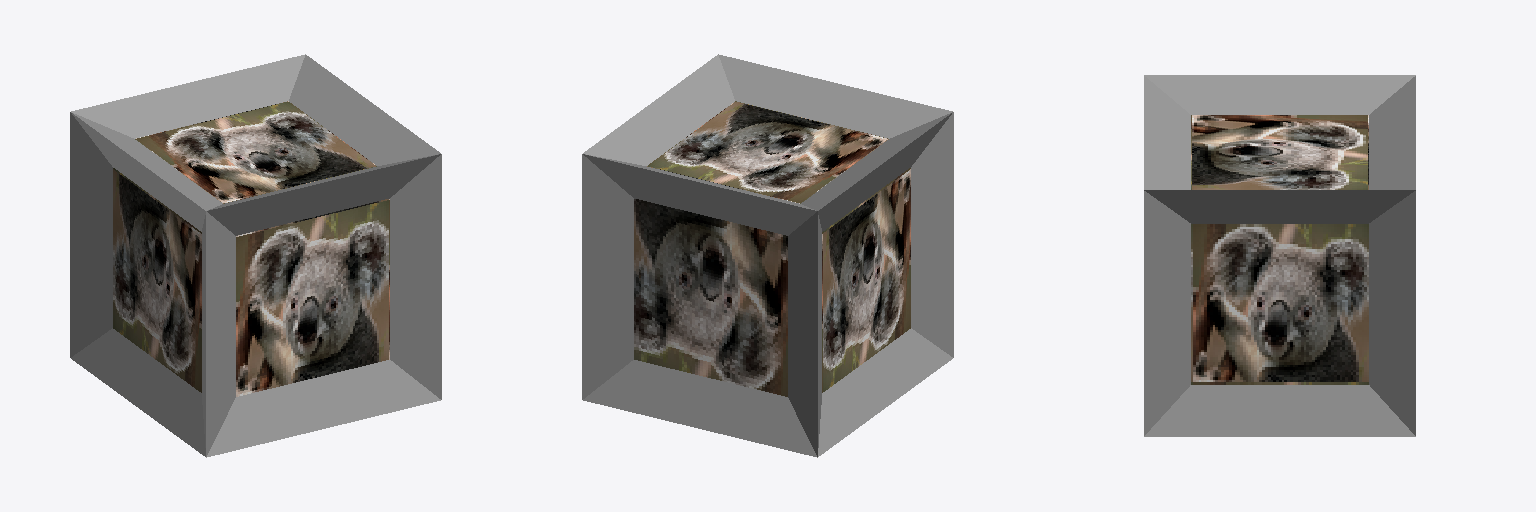
3 renders of one model, left to right at view 1: azimuth 30°, elevation 25°; view 2: azimuth 150°, elevation 25°; view 3: azimuth 270°, elevation 25°, orthographic.
Visible parts, largest first — view 1: Cube; view 2: Cube; view 3: Cube.
Boxes of the visible parts, x1,y1,x2,y2 form: Cube: [70, 54, 441, 457]; Cube: [582, 54, 953, 457]; Cube: [1144, 75, 1415, 436].
Size of the model in its own units: 1.58 by 1.58 by 1.58.
2 materials, 1 textured.